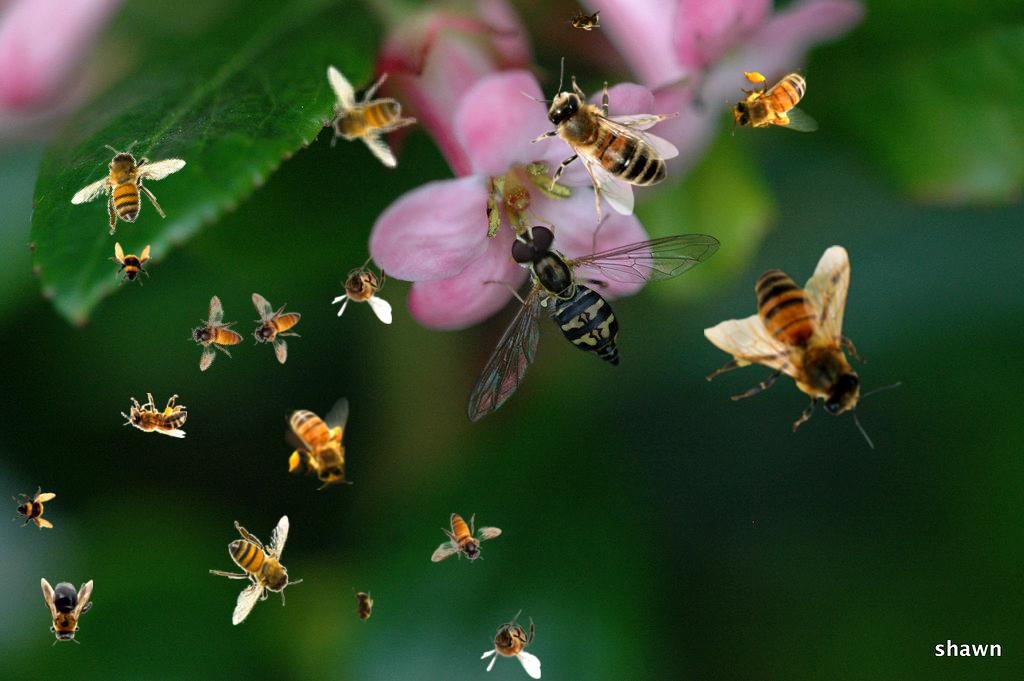Bee: (704, 245, 903, 449), (517, 57, 679, 224), (59, 112, 204, 258), (292, 44, 437, 182), (209, 515, 303, 626), (174, 294, 256, 381), (285, 397, 353, 490), (726, 68, 819, 136), (331, 254, 392, 324), (480, 609, 541, 679), (431, 513, 502, 563), (251, 293, 301, 364), (41, 578, 93, 646), (121, 393, 187, 438), (12, 486, 56, 530), (108, 242, 152, 286), (352, 587, 374, 627), (564, 9, 604, 31)
